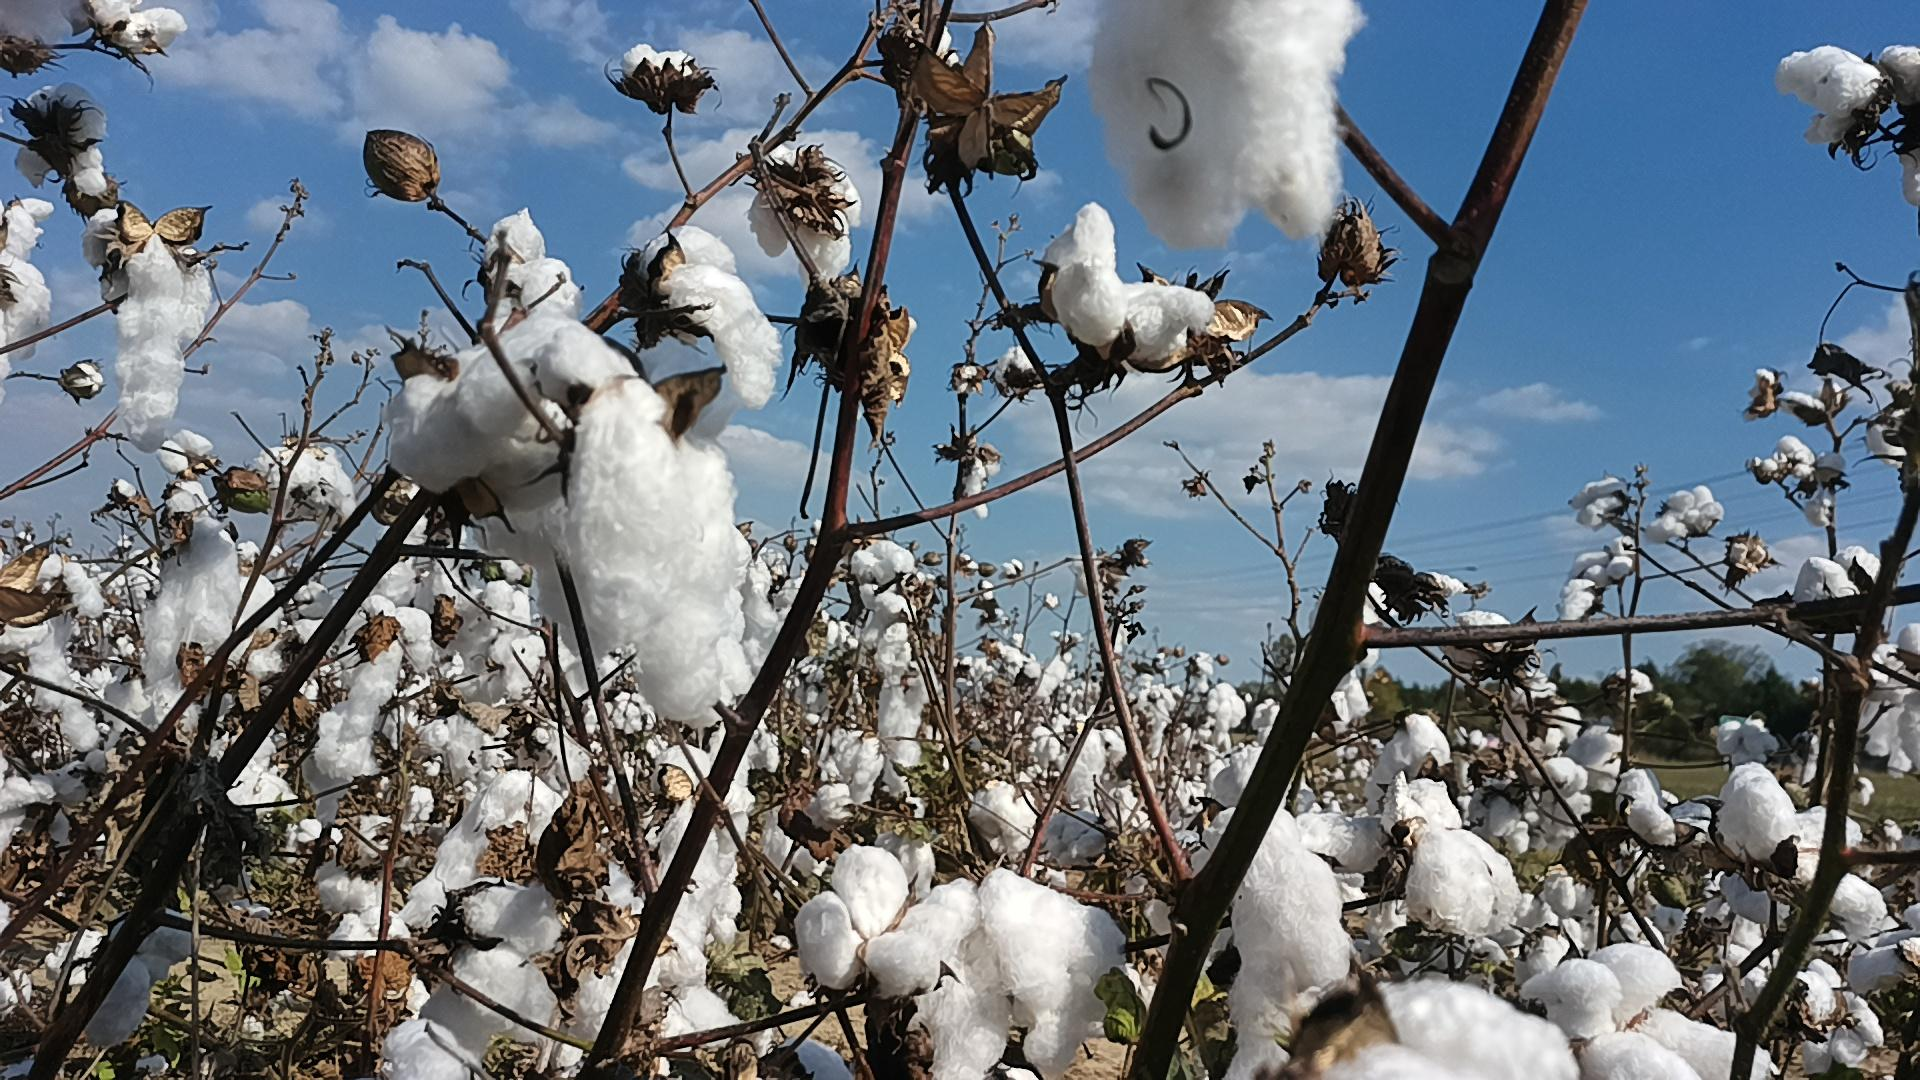cotton_ready: (535, 330, 738, 720), (1093, 0, 1367, 251), (914, 865, 1138, 1080), (400, 707, 592, 935), (1203, 800, 1352, 1080), (382, 318, 574, 512), (1288, 775, 1518, 936), (1526, 938, 1778, 1080), (1716, 758, 1887, 947), (84, 206, 218, 446), (794, 840, 967, 1005), (1317, 976, 1585, 1080), (1044, 203, 1217, 360), (423, 881, 562, 1072), (644, 225, 778, 409), (654, 745, 756, 957), (141, 479, 241, 688), (3, 555, 108, 754), (330, 596, 430, 779), (570, 928, 711, 1052), (82, 909, 198, 1051), (746, 144, 858, 276), (485, 203, 582, 330), (455, 583, 546, 709), (1778, 45, 1886, 150), (0, 195, 58, 392), (1791, 956, 1887, 1071), (244, 440, 360, 533), (16, 83, 111, 195), (658, 993, 774, 1080), (1366, 711, 1456, 815), (1615, 766, 1713, 855), (58, 0, 189, 53), (1880, 41, 1920, 214), (1792, 546, 1883, 607), (388, 1015, 472, 1080), (756, 1035, 862, 1080), (620, 41, 702, 86)
